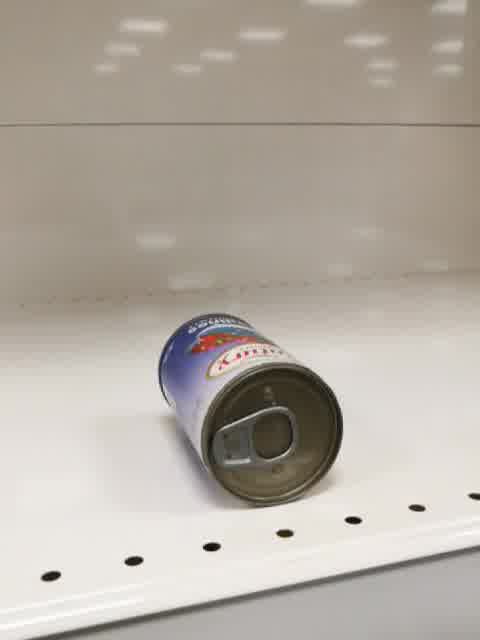sardine: (156, 314, 343, 507)
